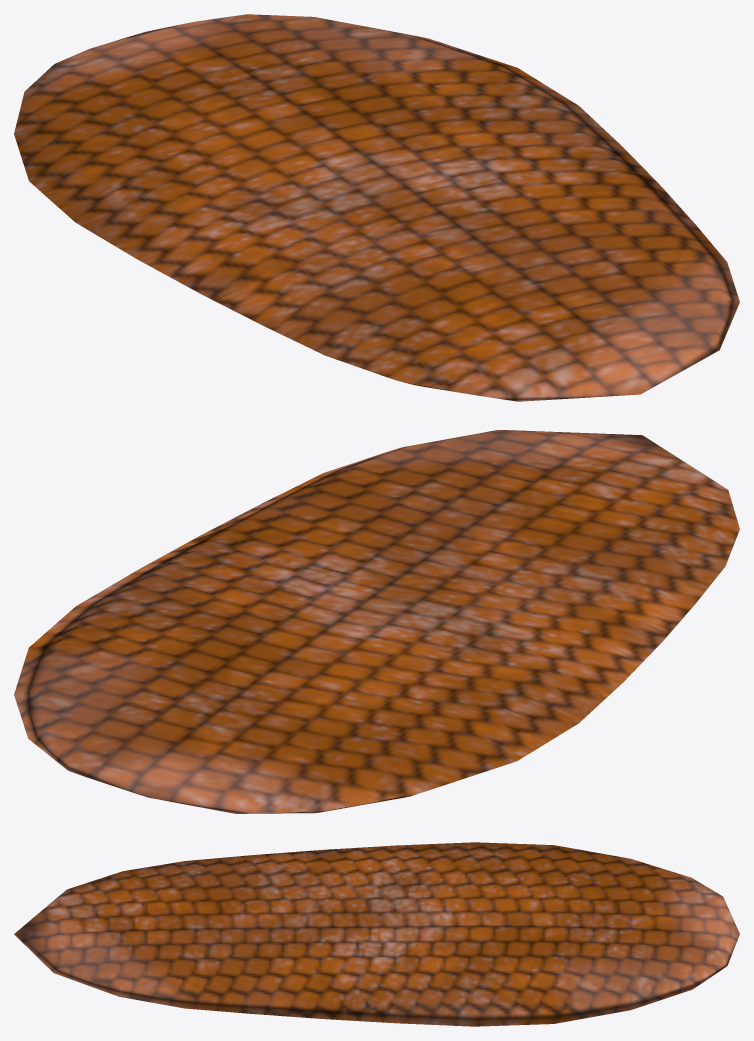
File: Smashed Corn.fbx
3 renders of one model, top to bottom at view 1: azimuth 30°, elevation 25°; view 2: azimuth 150°, elevation 25°; view 3: azimuth 270°, elevation 25°, orthographic. The views are drawn at different scales.
Visible parts, largest first — view 1: Smashed_Corn; view 2: Smashed_Corn; view 3: Smashed_Corn.
Boxes of the visible parts, bbox=[...] form: Smashed_Corn: bbox=[14, 14, 739, 401]; Smashed_Corn: bbox=[14, 430, 739, 813]; Smashed_Corn: bbox=[14, 842, 739, 1026].
Bounding box in the file's own units: 19.2 × 1.48 × 32.72.
1 material, 1 textured.
